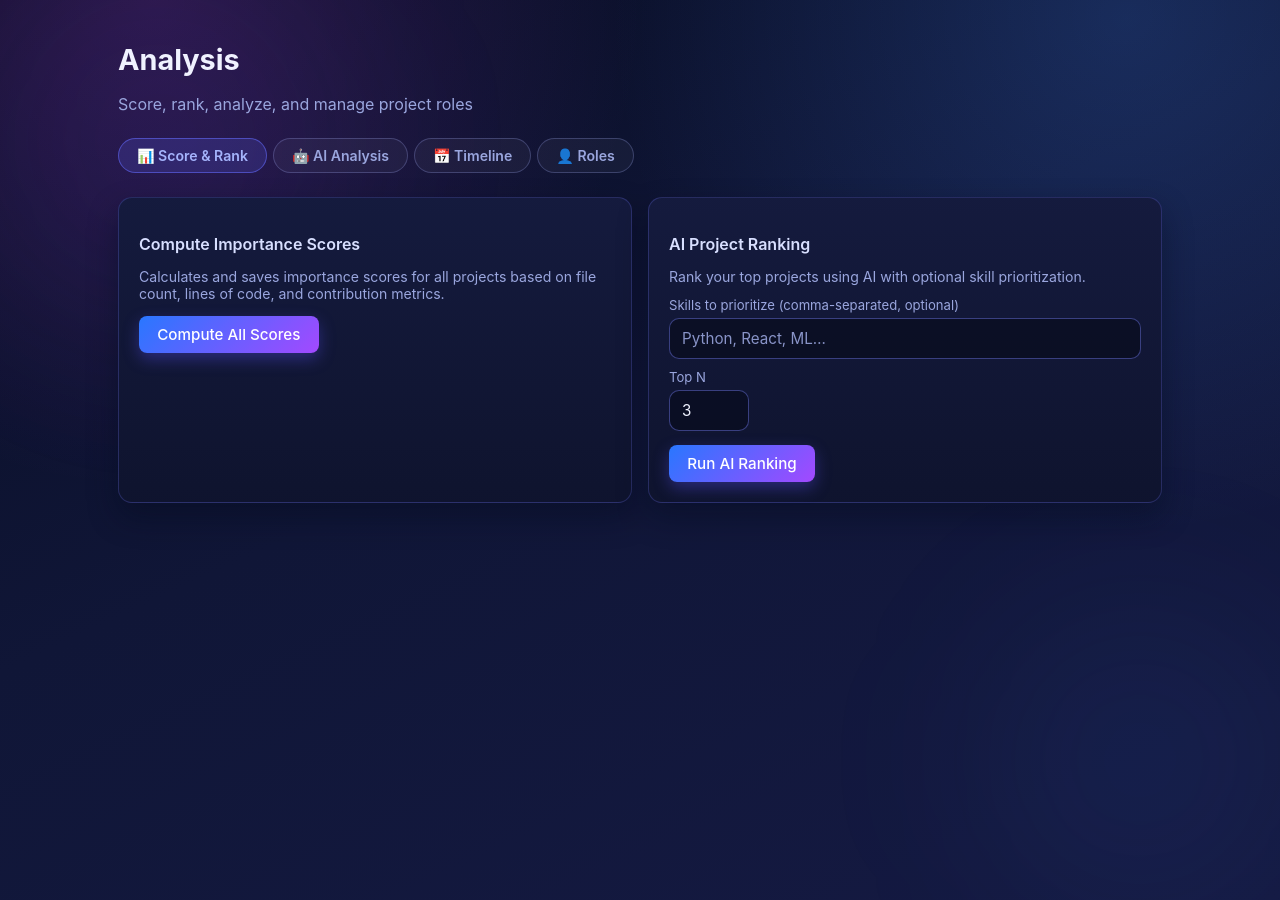
it: Analysis - Score tab › shows success message after computing scores
The width and height of the screenshot is (1280, 900).
Click the button "Compute All Scores".
click(229, 334)  # box [139,316,319,353]
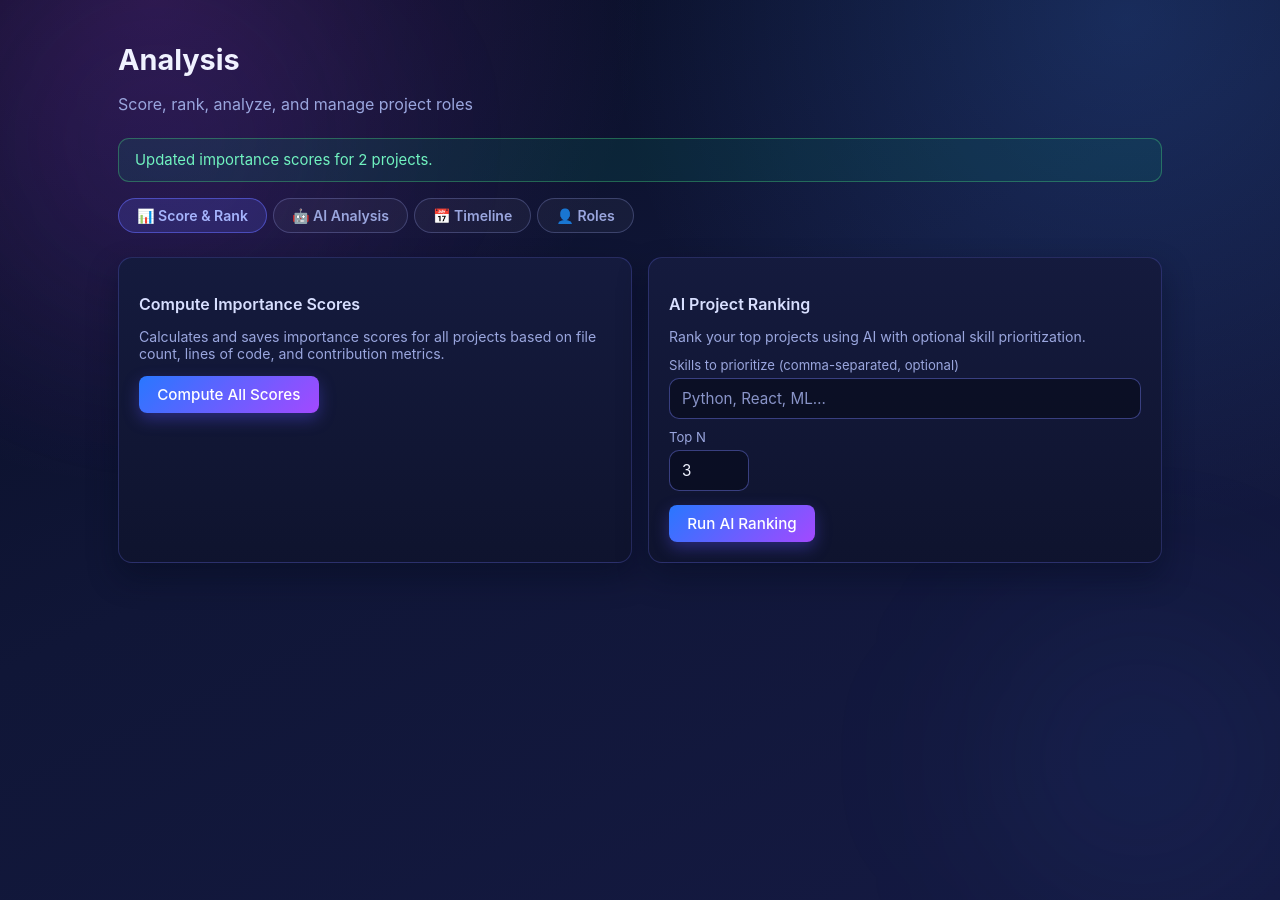
Expected: the text "Updated importance scores for 2 projects." is shown, [118,138,1162,182]
